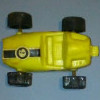amarillo_oeste: (1, 13, 98, 89)
